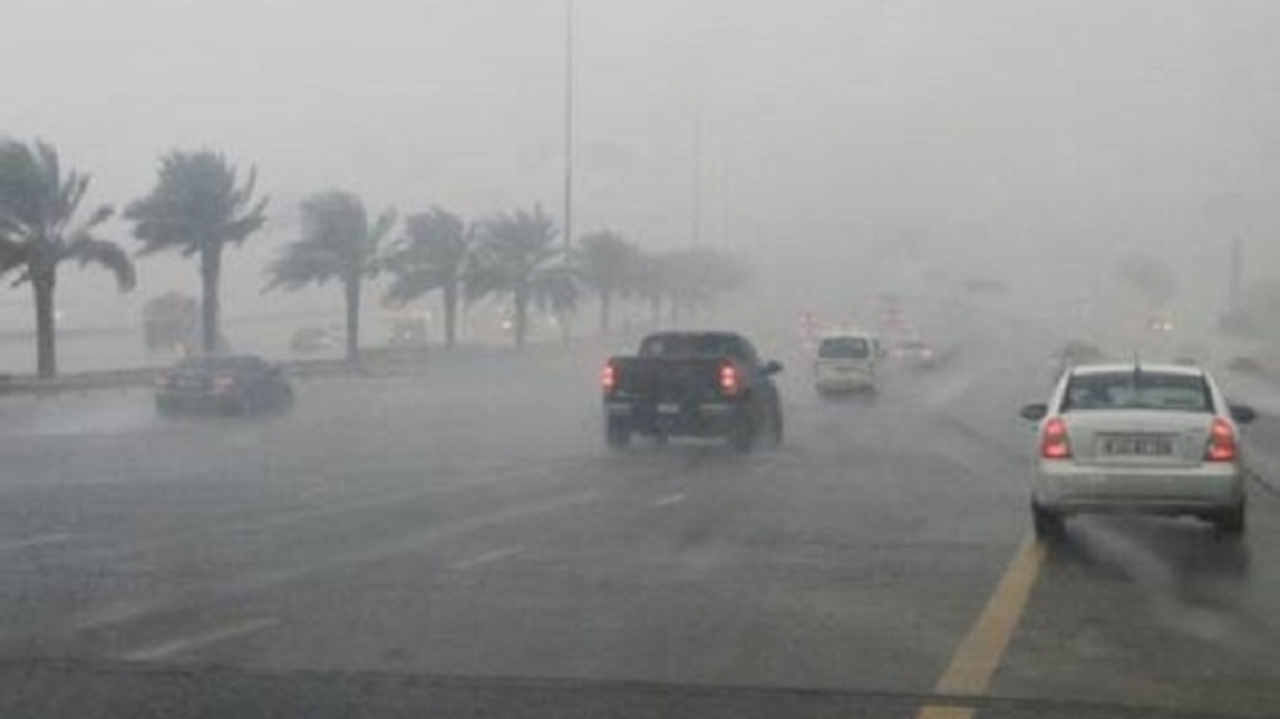car: (1028, 361, 1249, 542), (597, 329, 787, 456), (153, 352, 297, 419), (811, 333, 883, 399), (892, 339, 937, 374), (383, 322, 429, 344), (291, 328, 325, 351)
truck: (138, 290, 232, 353)
